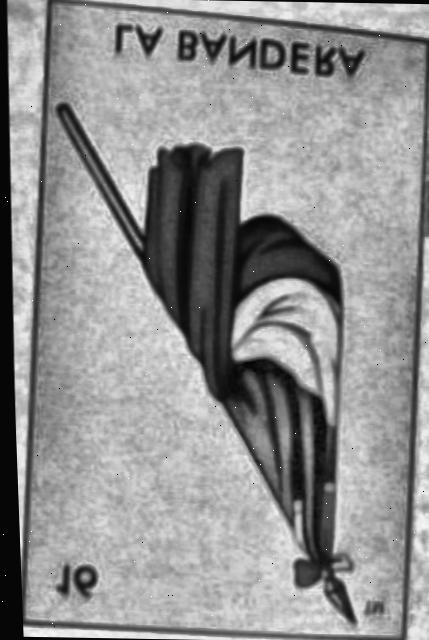La Bandera: (19, 3, 424, 640)
